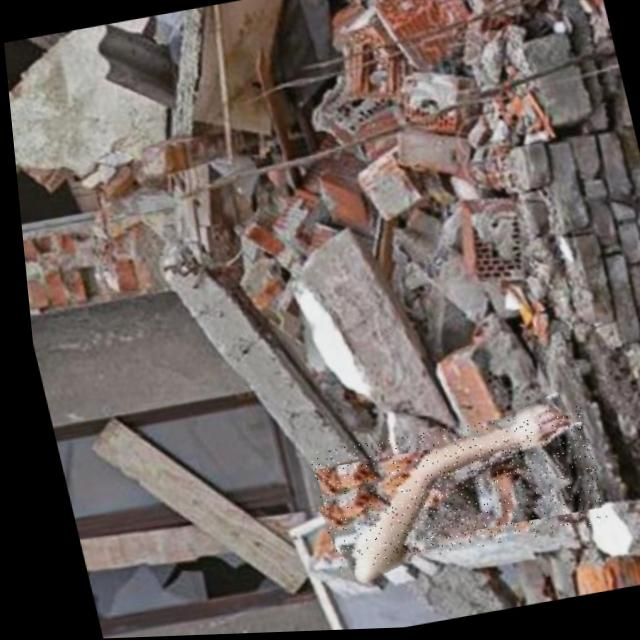Person in Rubble: (297, 407, 601, 574)
